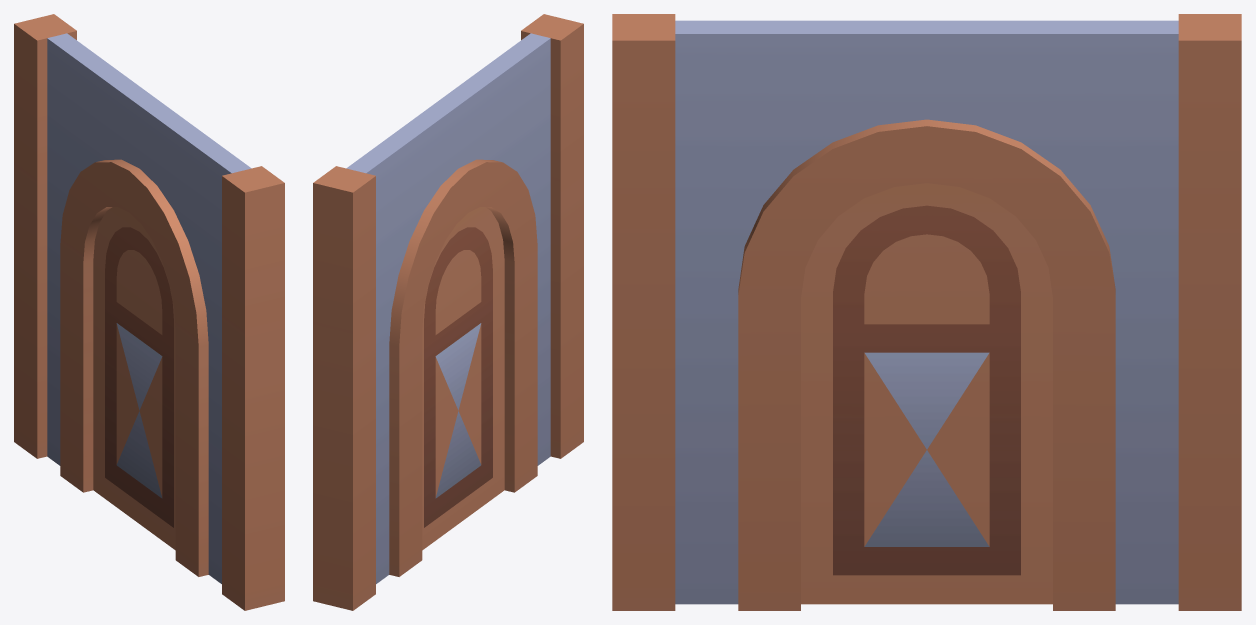
The model's file is wall-door.glb.
3 renders of one model, left to right at view 1: azimuth 30°, elevation 25°; view 2: azimuth 150°, elevation 25°; view 3: azimuth 270°, elevation 25°, orthographic. The views are drawn at different scales.
Visible parts, largest first — view 1: wall-door, door; view 2: wall-door, door; view 3: wall-door, door.
Boxes of the visible parts, x1,y1,x2,y2 form: wall-door: [14, 14, 284, 610]; door: [93, 207, 175, 550]; wall-door: [313, 14, 583, 610]; door: [422, 207, 504, 550]; wall-door: [612, 14, 1241, 610]; door: [801, 183, 1052, 604].
Size of the model in its own units: 0.1 by 1 by 1.
1 material, 1 textured.
